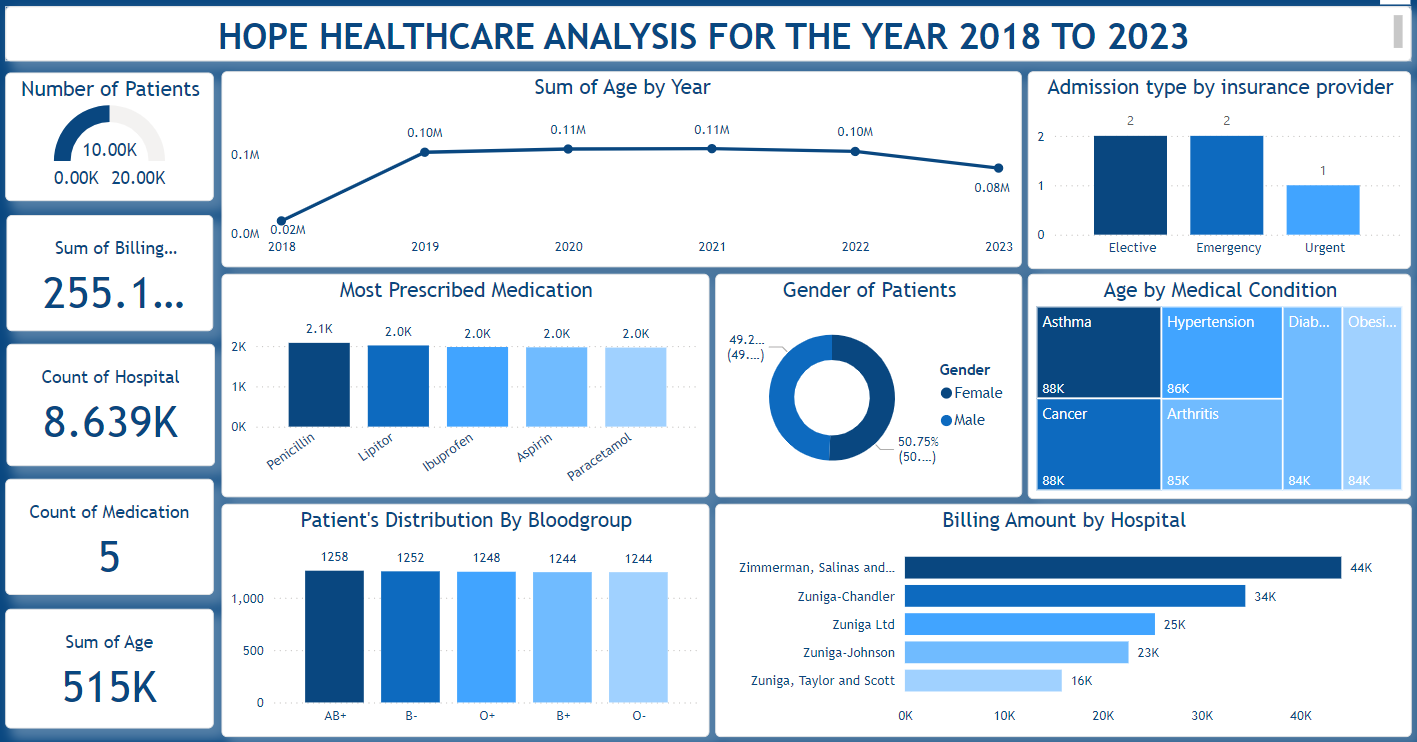

This screenshot's page, from the dashboard's own definition file:
{"tool":"powerbi","page":{"name":"Page 1","canvas":[1280,720],"ordinal":0},"visuals":[{"type":"textbox","box":[5.5,54.9,1267.9,49.4],"z":0},{"type":"lineChart","fields":{"Category":["Sheet2.Date of Admission.Variation.Date Hierarchy.Year"],"Y":["Sum(Sheet2.Age)"]},"box":[200.5,113.4,721.7,177],"z":1000},{"type":"donutChart","title":"Gender of Patients","fields":{"Category":["Sheet2.Gender"],"Y":["CountNonNull(Sheet2.Gender)"]},"box":[645.7,295.9,276.5,201.9],"z":2000},{"type":"barChart","title":"Billing Amount by Hospital","fields":{"Category":["Sheet2.Hospital"],"Y":["Sum(Sheet2.Billing Amount)"]},"box":[645.7,503.3,627.7,210.2],"z":3000},{"type":"columnChart","title":"Most Prescribed Medication ","fields":{"Category":["Sheet2.Medication"],"Y":["CountNonNull(Sheet2.Medication)"]},"box":[200.5,295.9,439.7,201.9],"z":4000},{"type":"columnChart","title":"Admission type by insurance provider","fields":{"Category":["Sheet2.Admission Type"],"Y":["CountNonNull(Sheet2.Insurance Provider)"]},"box":[927.7,113.4,345.6,178.4],"z":5000},{"type":"treemap","title":"Age by Medical Condition","fields":{"Group":["Sheet2.Medical Condition"],"Values":["Sum(Sheet2.Age)"]},"box":[927.7,295.9,345.6,203.2],"z":6000},{"type":"columnChart","title":"Patient''s Distribution By Bloodgroup","fields":{"Category":["Sheet2.Blood Type"],"Y":["CountNonNull(Sheet2.Blood Type)"]},"box":[200.5,503.3,439.7,210.2],"z":7000},{"type":"gauge","title":"Number of Patients","fields":{"Y":["CountNonNull(Sheet2.Name)"]},"box":[5.5,114.8,188,116.1],"z":8000},{"type":"cardVisual","fields":{"Data":["Count(Sheet2.Hospital)"]},"box":[6.9,359.5,188,110.6],"z":9000},{"type":"cardVisual","fields":{"Data":["Count(Sheet2.Medication)"]},"box":[5.5,481.1,188,105.1],"z":10000},{"type":"cardVisual","fields":{"Data":["Sum(Sheet2.Billing Amount)"]},"box":[6.9,243.3,186.7,105.1],"z":11000},{"type":"cardVisual","fields":{"Data":["Sum(Sheet2.Age)"]},"box":[5.5,598.7,188,107.8],"z":12000}]}

Visuals, with their boxes in screenshot pixels (x1, y1, x2, y2):
textbox: select_region(10, 8, 1394, 62)
lineChart - Sheet2.Date of Admission.Variation.Date Hierarchy.Year x Sum(Sheet2.Age): select_region(223, 72, 1011, 265)
"Gender of Patients" donutChart: select_region(709, 271, 1011, 492)
"Billing Amount by Hospital" barChart: select_region(709, 498, 1394, 727)
"Most Prescribed Medication " columnChart: select_region(223, 271, 703, 492)
"Admission type by insurance provider" columnChart: select_region(1017, 72, 1394, 267)
"Age by Medical Condition" treemap: select_region(1017, 271, 1394, 493)
"Patient''s Distribution By Bloodgroup" columnChart: select_region(223, 498, 703, 727)
"Number of Patients" gauge: select_region(10, 74, 215, 200)
cardVisual - Count(Sheet2.Hospital): select_region(11, 341, 217, 462)
cardVisual - Count(Sheet2.Medication): select_region(10, 474, 215, 588)
cardVisual - Sum(Sheet2.Billing Amount): select_region(11, 214, 215, 329)
cardVisual - Sum(Sheet2.Age): select_region(10, 602, 215, 720)
